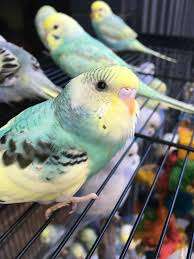budgie: (1, 65, 140, 217), (89, 1, 175, 60), (43, 12, 112, 67), (1, 33, 51, 102)
